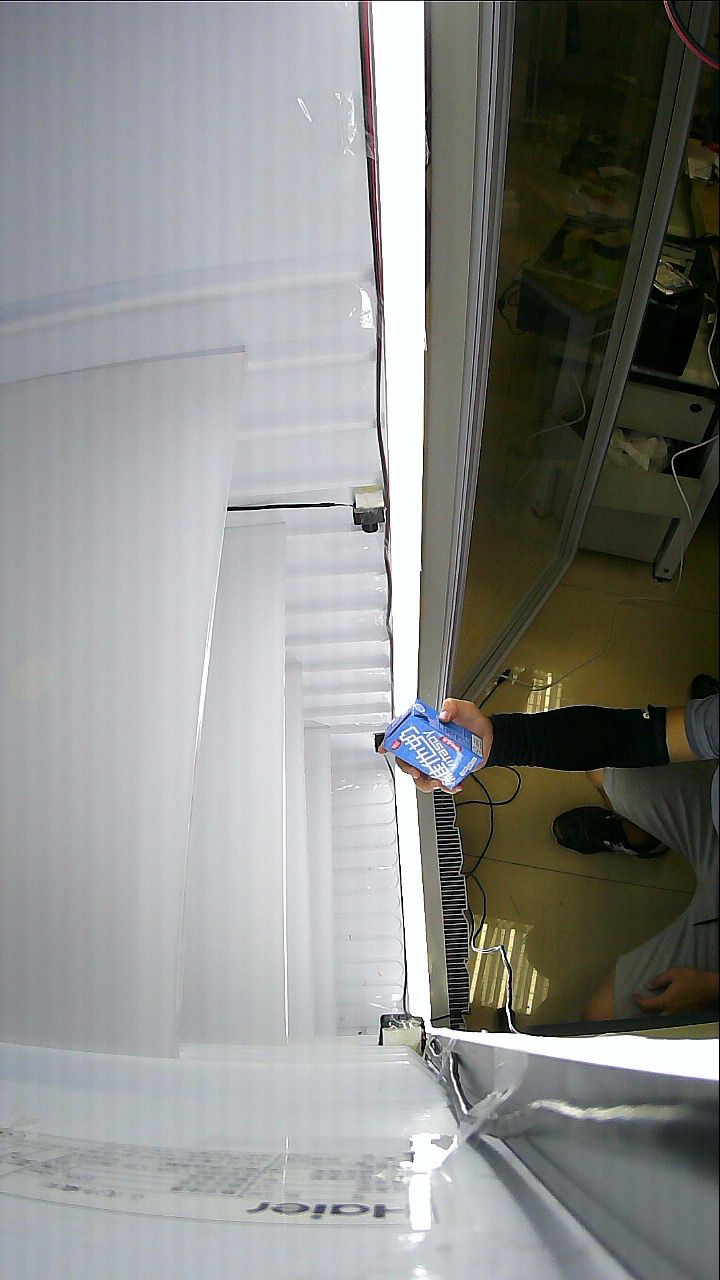VitaSoyOriginal: (382, 703, 518, 796)
